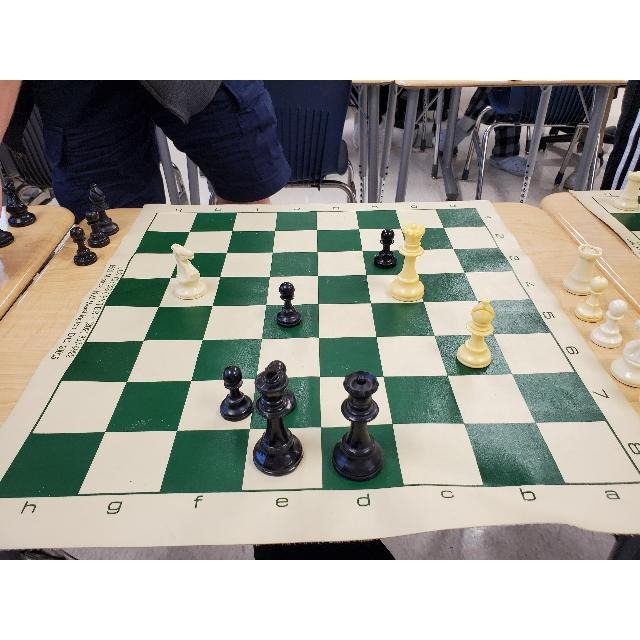black-pawn: (256, 359, 296, 414), (218, 366, 253, 420), (275, 280, 302, 328), (374, 227, 398, 269)
black-queen: (331, 369, 386, 481)
white-bishop: (452, 297, 495, 369)
white-queen: (387, 220, 426, 305)
white-rook: (168, 244, 210, 300)
